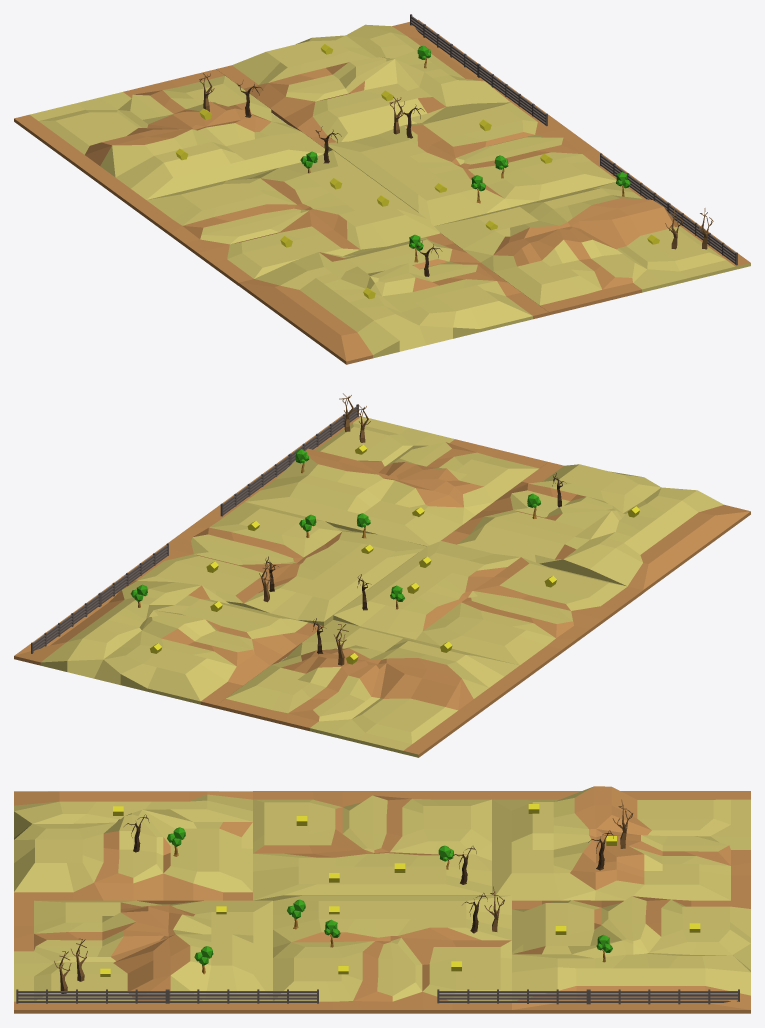
File: FarmLand(Scaled).fbx
3 renders of one model, top to bottom at view 1: azimuth 30°, elevation 25°; view 2: azimuth 150°, elevation 25°; view 3: azimuth 270°, elevation 25°, orthographic. The views are drawn at different scales.
Parts seen in each view (by area): view 1: Cube.011; view 2: Cube.011; view 3: Cube.011.
Part boxes in pixels (bbox=[...]): Cube.011: bbox=[14, 14, 750, 364]; Cube.011: bbox=[14, 393, 750, 757]; Cube.011: bbox=[14, 786, 750, 1013].
Size of the model in its own units: 11326 by 1588 by 16106.
